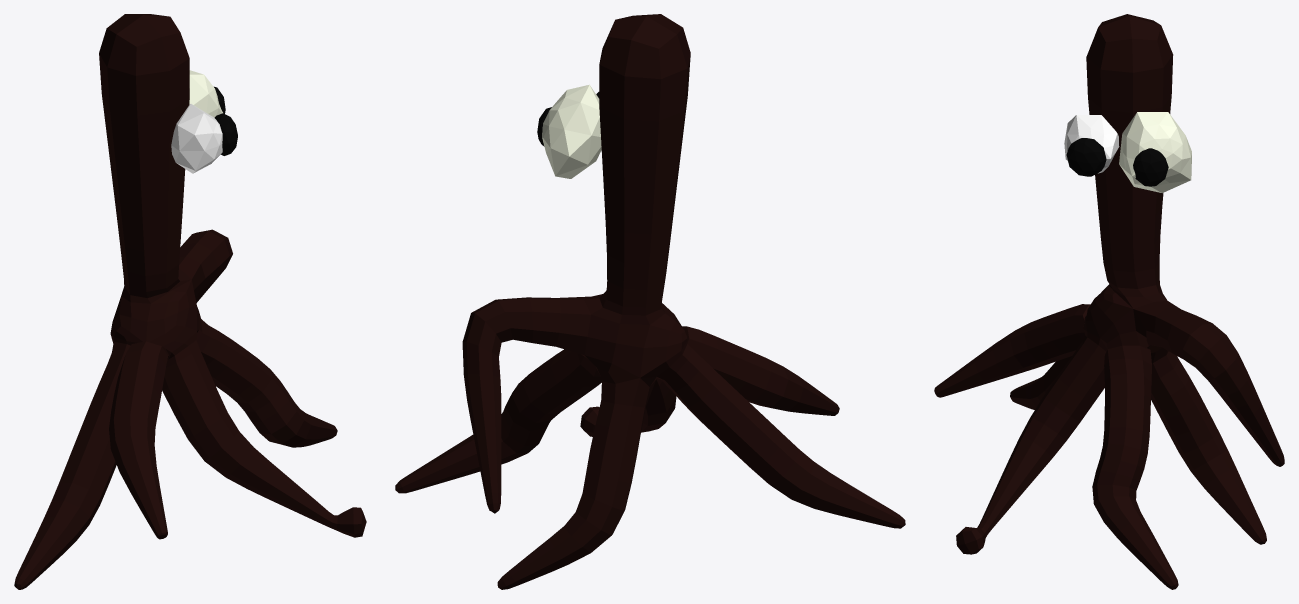
File: enemy.obj
3 views of the same model, side by side, from view 1: azimuth 30°, elevation 25°; view 2: azimuth 150°, elevation 25°; view 3: azimuth 270°, elevation 25° (orthographic). The views are drawn at different scales.
Parts seen in each view (by area): view 1: Плоскость, Икосфера.002; view 2: Плоскость, Икосфера.002; view 3: Плоскость, Икосфера.002.
Part boxes in pixels (x1,y1,x2,y2): Плоскость: (14,14,366,589); Икосфера.002: (171,70,237,173); Плоскость: (395,14,905,589); Икосфера.002: (537,84,601,178); Плоскость: (934,14,1284,589); Икосфера.002: (1064,112,1191,193).
Bounding box in the file's own units: 4.49 × 5.46 × 3.49.
